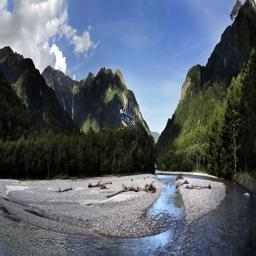Swallow: (119, 105, 135, 129)
